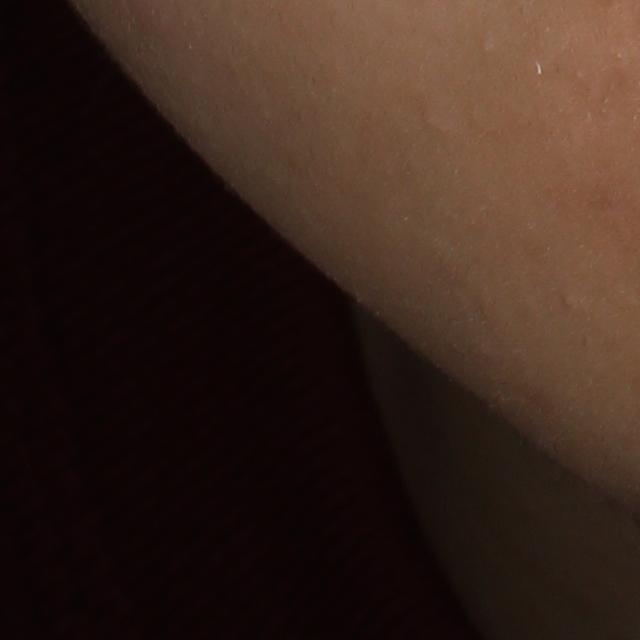comedo: (478, 36, 501, 57), (561, 288, 583, 309), (423, 112, 444, 133)
